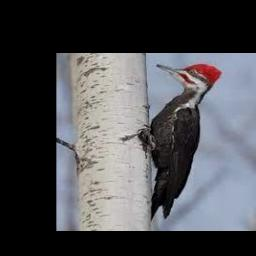Woodpecker: (141, 64, 222, 221)
